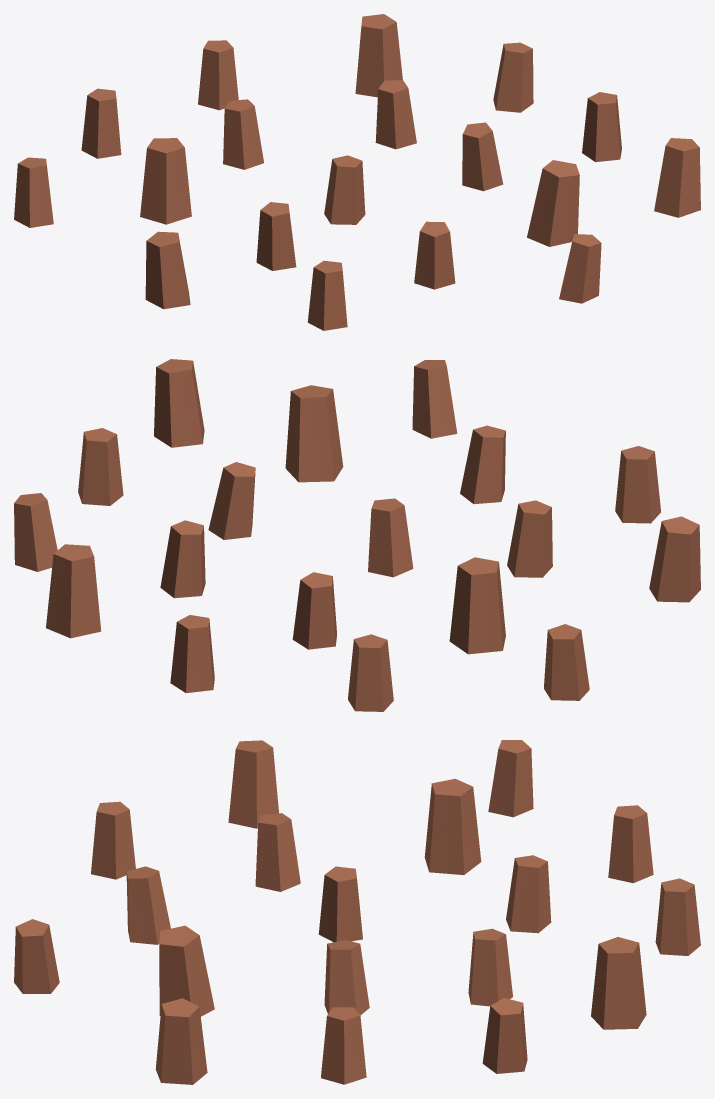
File: kaykit-medieval-hexagon-pack-trees-a-cut.glb
3 renders of one model, top to bottom at view 1: azimuth 30°, elevation 25°; view 2: azimuth 150°, elevation 25°; view 3: azimuth 270°, elevation 25°, orthographic. The views are drawn at different scales.
Visible parts, largest first — view 1: trees_A_cut; view 2: trees_A_cut; view 3: trees_A_cut.
Part boxes in pixels (x1,y1,x2,y2): trees_A_cut: (14,14,700,330); trees_A_cut: (14,359,700,711); trees_A_cut: (14,740,700,1084).
Bounding box in the file's own units: 1.66 × 0.2096 × 1.68.
Materials: 1 (1 with a texture image).
